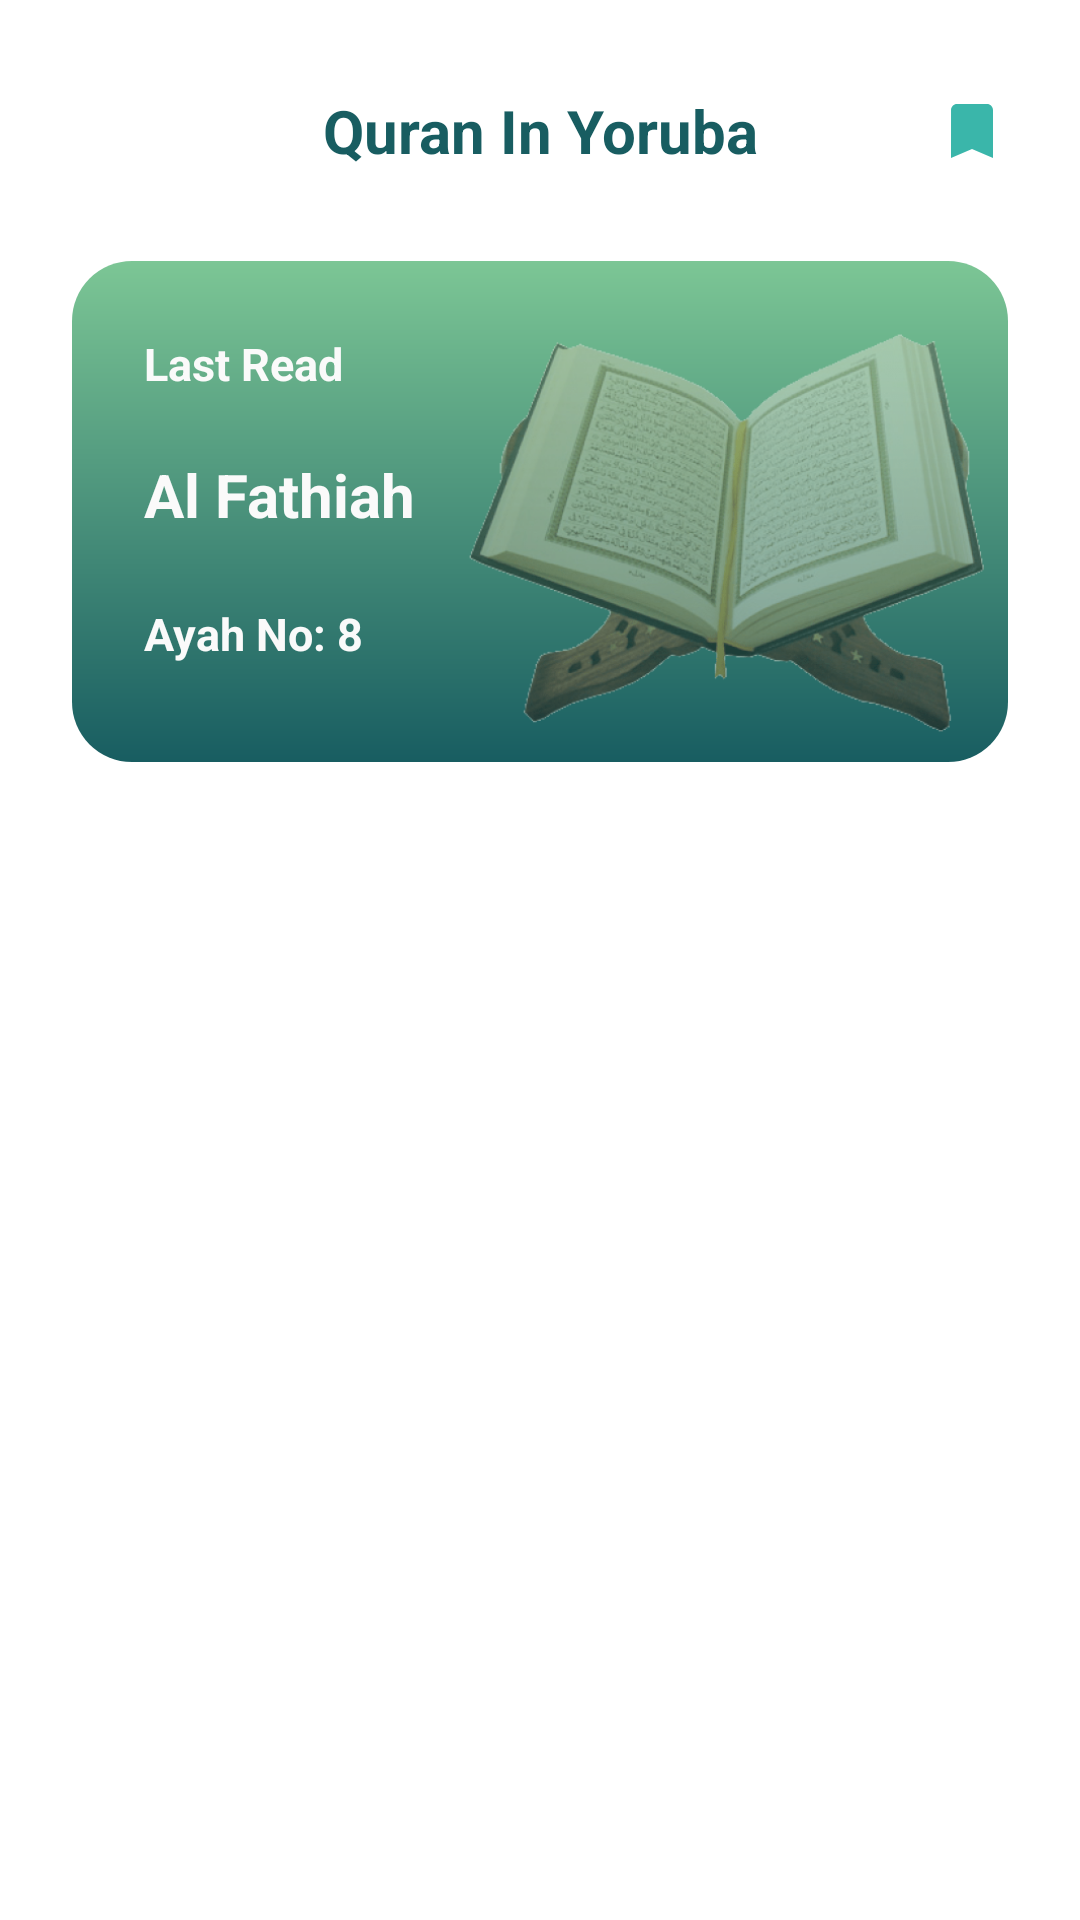

Named icons in this screenshot (1080w x 1920h) and their centers, (x=x, y=y):
bookmark: (x=972, y=131)
